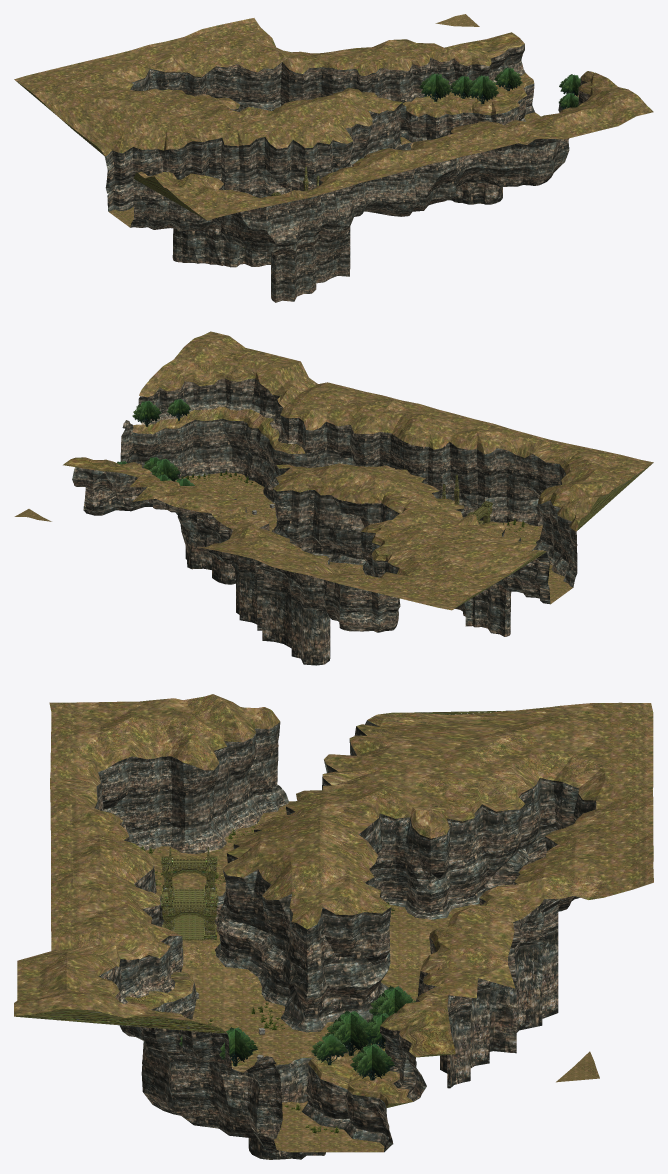
Rendered from AurochsCanyonPath3.obj.
3 views of the same model, one above another, from view 1: azimuth 30°, elevation 25°; view 2: azimuth 150°, elevation 25°; view 3: azimuth 270°, elevation 25° (orthographic). The views are drawn at different scales.
Parts seen in each view (by area): view 1: Object.019, Object.015, Object.020; view 2: Object.019, Object.015, Object.020, Object.018; view 3: Object.015, Object.019, Object.020, Object.018, Object.016.
Boxes of the visible parts, left/top/right/bottom form: Object.019: left=104, top=44, right=589, bottom=302; Object.015: left=14, top=18, right=653, bottom=227; Object.020: left=419, top=67, right=580, bottom=108; Object.019: left=72, top=378, right=577, bottom=665; Object.015: left=63, top=331, right=653, bottom=610; Object.020: left=117, top=398, right=194, bottom=485; Object.018: left=442, top=474, right=492, bottom=524; Object.015: left=14, top=694, right=653, bottom=1152; Object.019: left=94, top=720, right=596, bottom=1159; Object.020: left=179, top=986, right=415, bottom=1080; Object.018: left=160, top=847, right=218, bottom=940; Object.016: left=141, top=826, right=394, bottom=1133.
Bounding box in the file's own units: 247 × 71.86 × 202.
8 materials, 8 textured.
